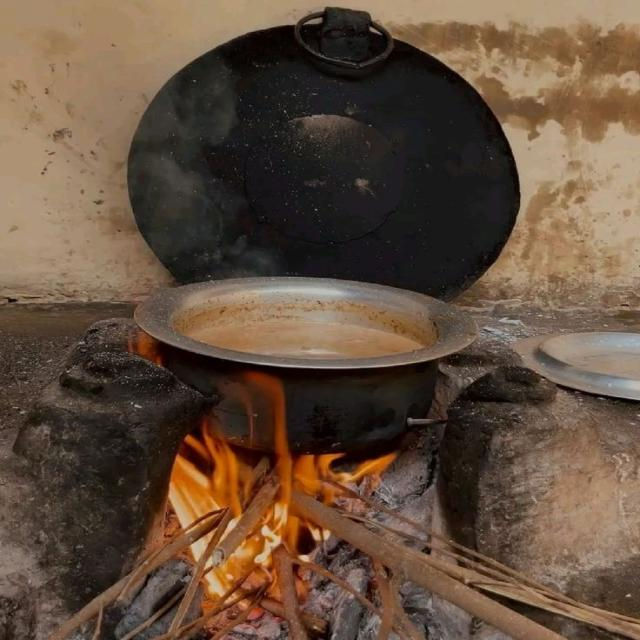fire: (168, 420, 288, 604), (295, 454, 396, 506), (251, 370, 292, 485)
